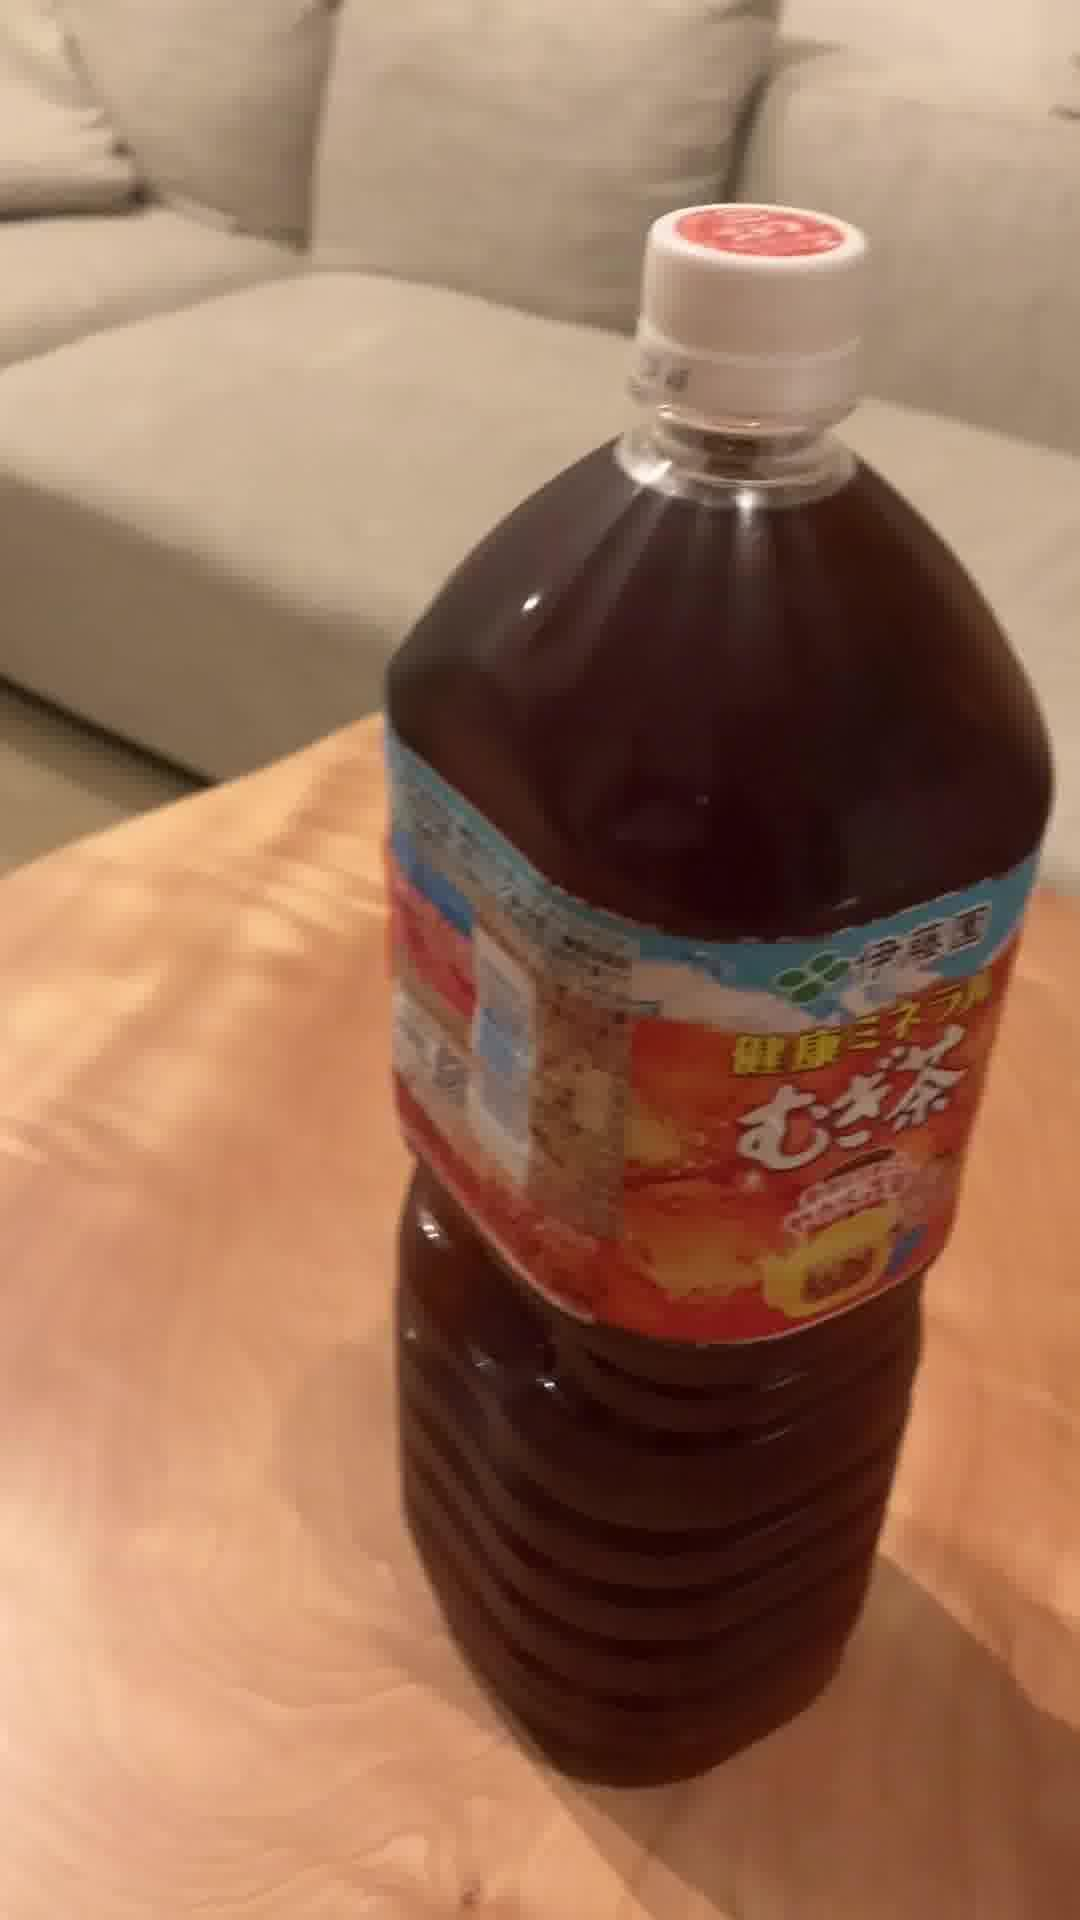BIODEGRADABLE: (368, 202, 1060, 1775)
